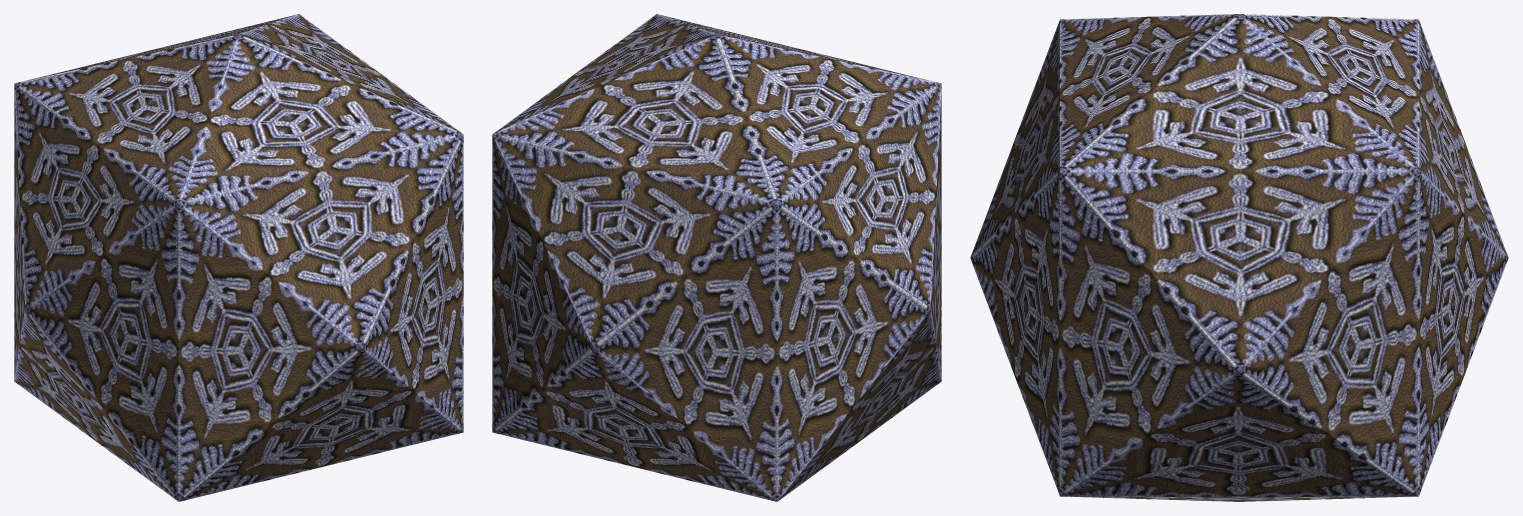
File: TetrakisHexahedron3.obj
3 views of the same model, side by side, from view 1: azimuth 30°, elevation 25°; view 2: azimuth 150°, elevation 25°; view 3: azimuth 270°, elevation 25° (orthographic). The views are drawn at different scales.
Size of the model in its own units: 3.18 by 3.18 by 3.18.
Materials: 1 (1 with a texture image).
